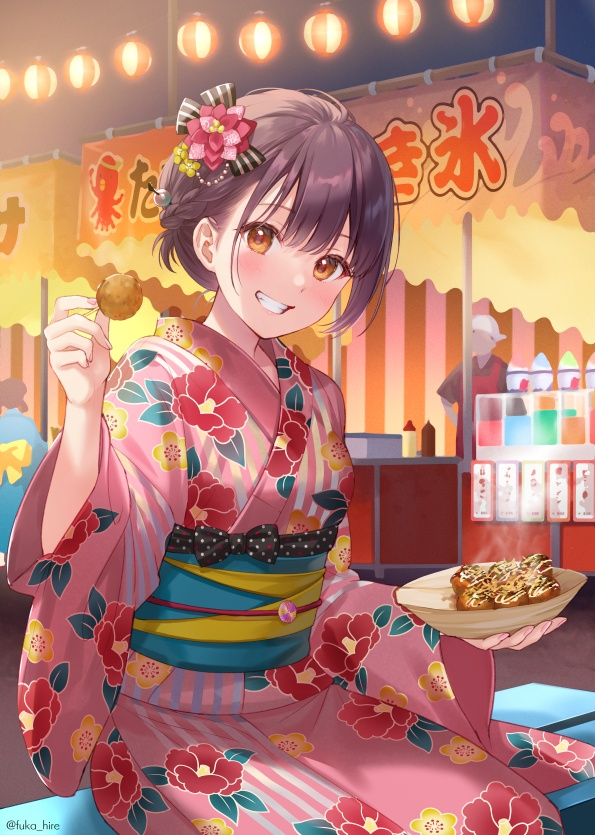纸片人正脸: (163, 81, 404, 343)
